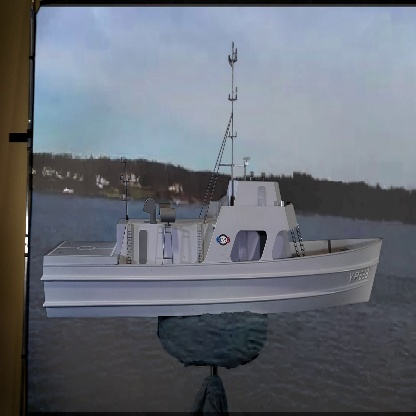YP689: (40, 41, 384, 321)
